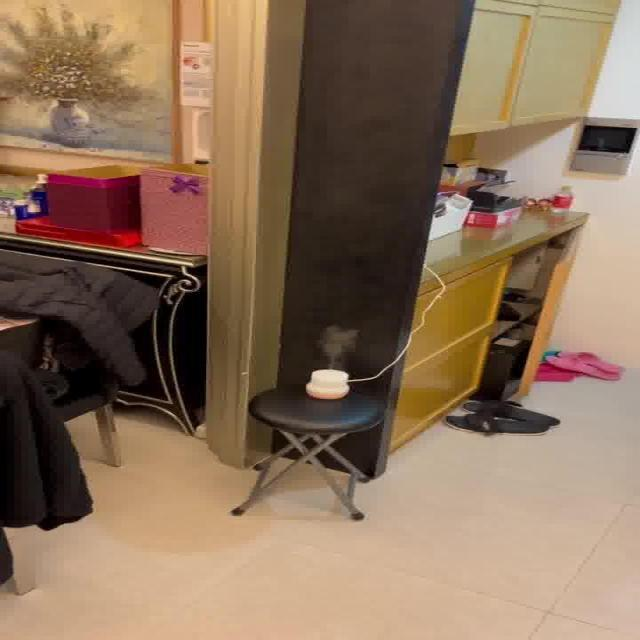fire: (318, 323, 363, 366)
